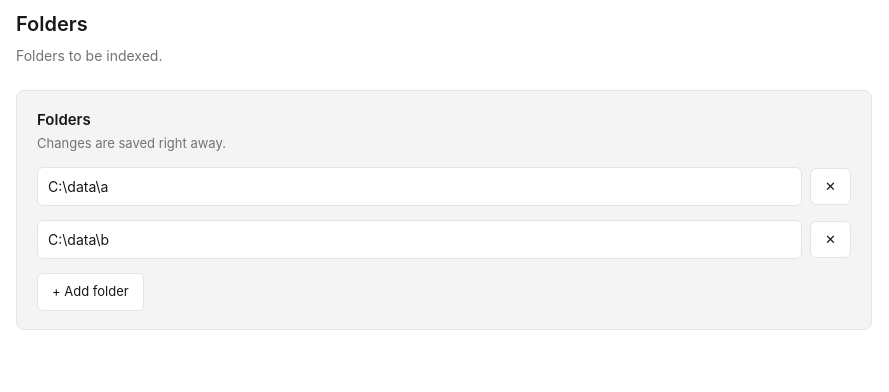
Scenario: FoldersScreen › puts a folder back when its removal is refused
Expected: the 2nd field showing "C:\\data\\b" is shown, [37, 220, 802, 259]
Step 1. Click the button named "Remove" → (831, 187), box [810, 168, 851, 205]
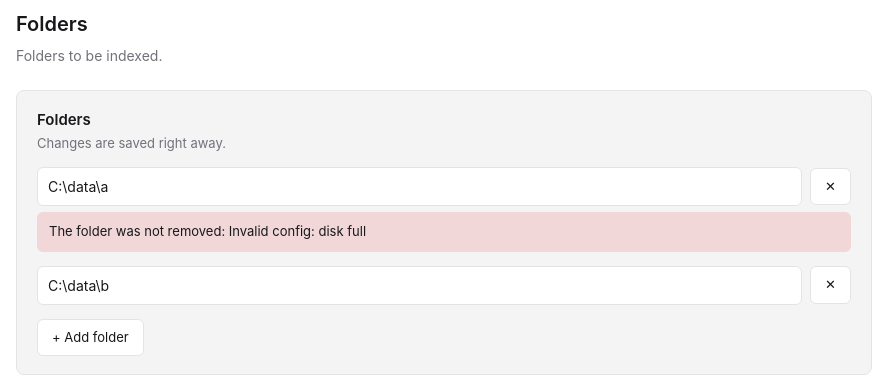
Now the text "The folder was not removed: Invalid config: disk full" is shown, box [37, 212, 851, 252]
